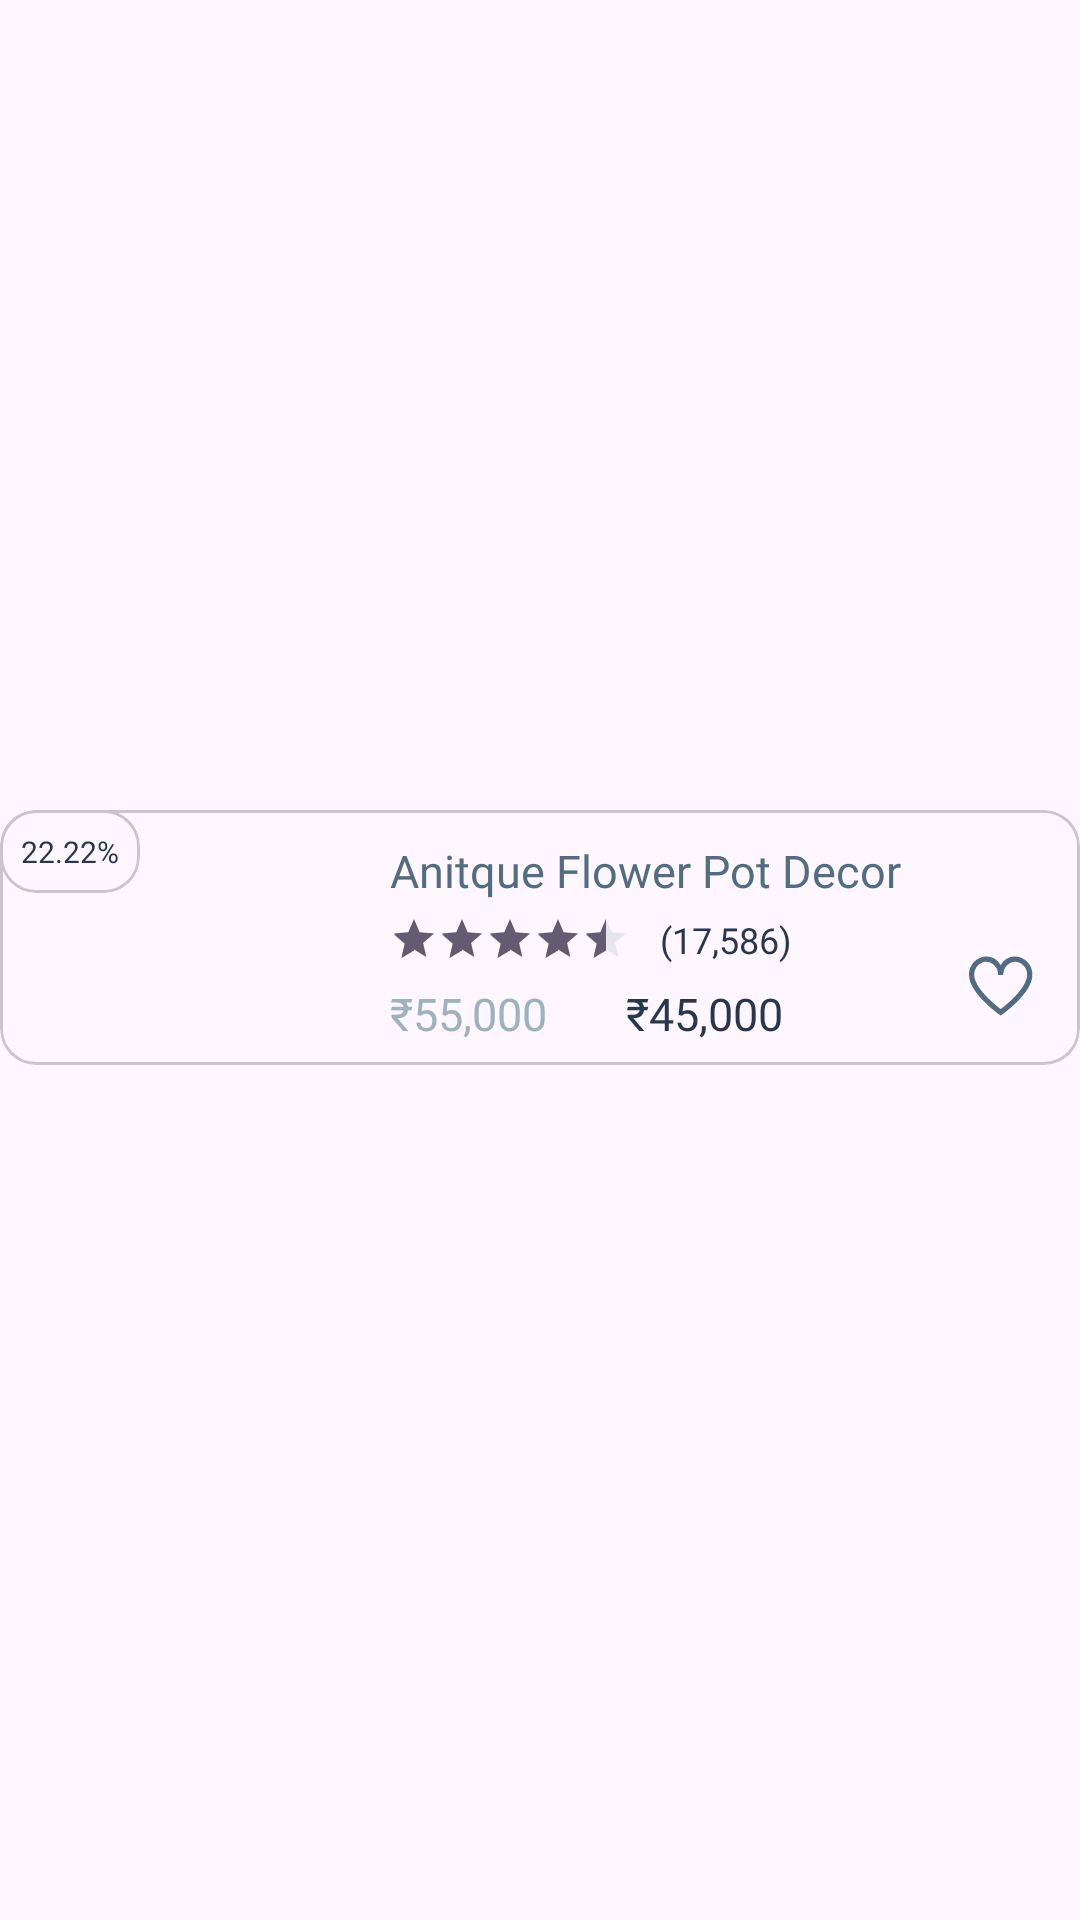

Icons on this 1080×1920 Android screen, each with the point to tap as (x=x, y=y):
heart: (x=1001, y=986)
